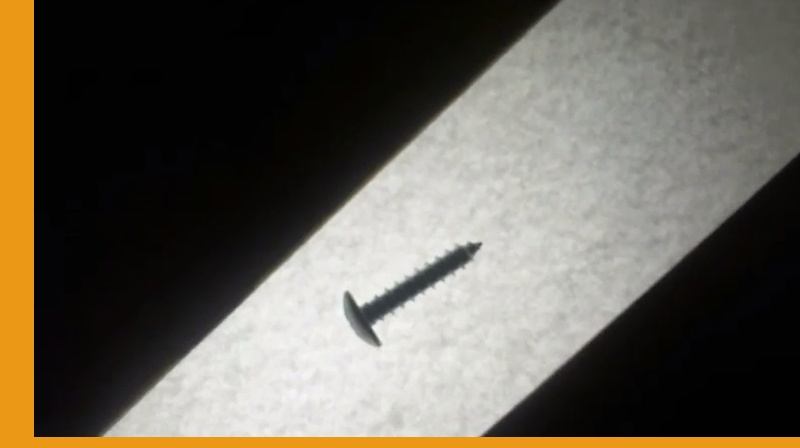S003: (335, 239, 486, 348)
